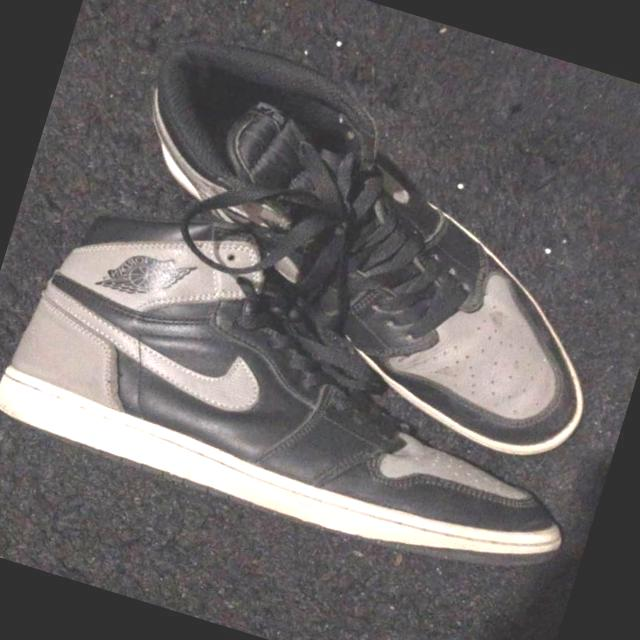nike_fake_jordan: (0, 166, 629, 598), (74, 22, 640, 476)
